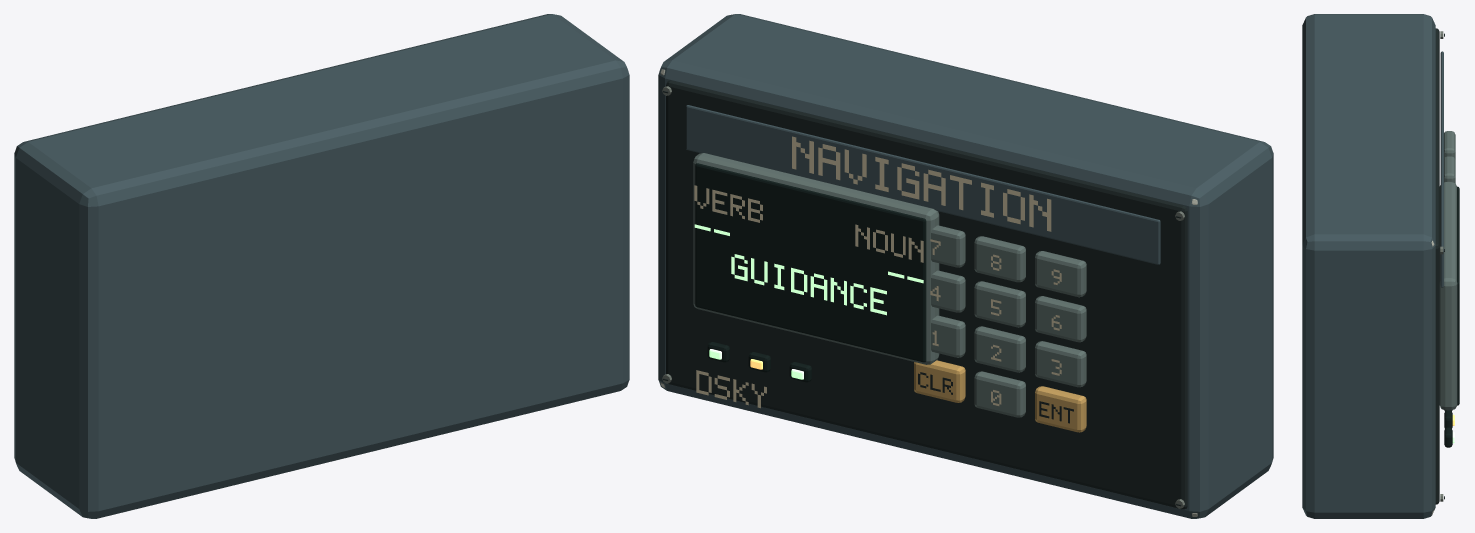
Rendered from nav_panel.glb.
3 views of the same model, side by side, from view 1: azimuth 30°, elevation 25°; view 2: azimuth 150°, elevation 25°; view 3: azimuth 270°, elevation 25° (orthographic). The views are drawn at different scales.
Visible parts, largest first — view 1: nav_panel; view 2: nav_panel; view 3: nav_panel.
Boxes of the visible parts, x1,y1,x2,y2 form: nav_panel: (14,14,629,518); nav_panel: (658,14,1273,518); nav_panel: (1302,14,1459,518).
Bounding box in the file's own units: 0.535 × 0.308 × 0.1555.
